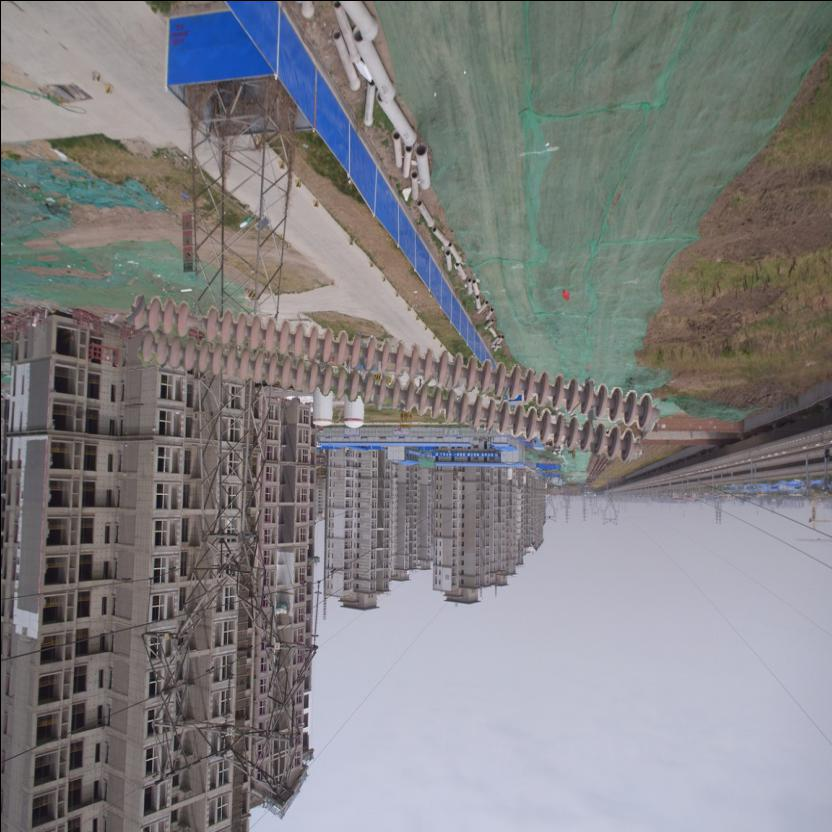defect: (171, 299, 221, 345)
